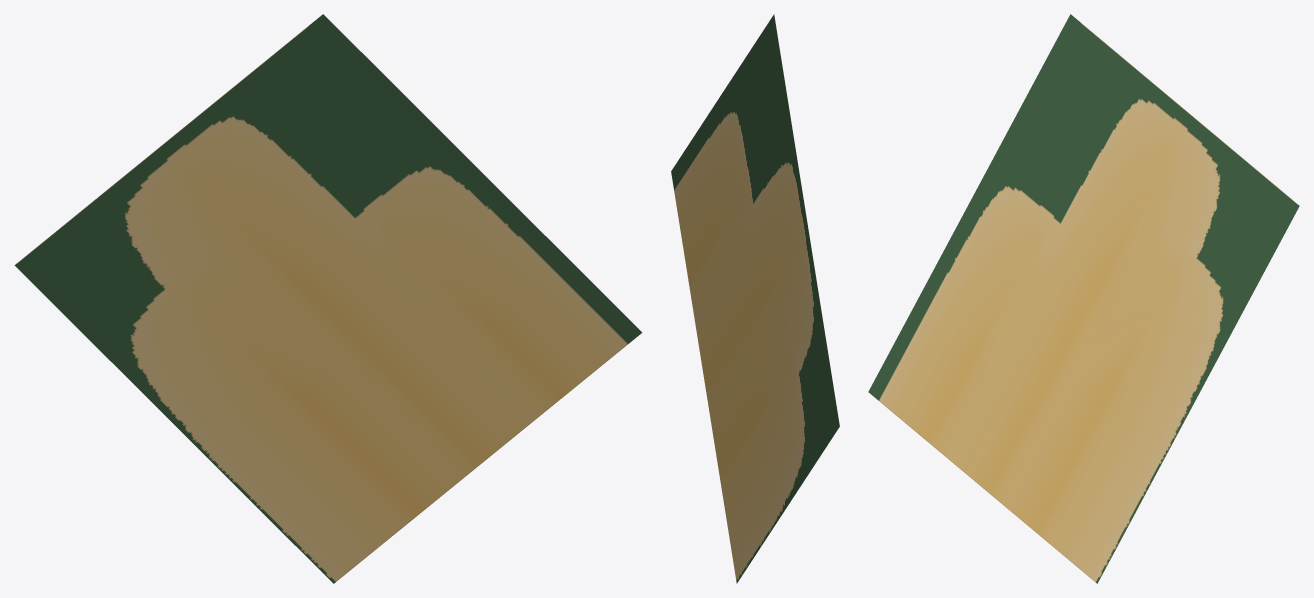
3 views of the same model, side by side, from view 1: azimuth 30°, elevation 25°; view 2: azimuth 150°, elevation 25°; view 3: azimuth 270°, elevation 25° (orthographic). The views are drawn at different scales.
Parts seen in each view (by area): view 1: dynamiclight.png__; view 2: dynamiclight.png__; view 3: dynamiclight.png__.
Boxes of the visible parts, <box> form: dynamiclight.png__: <box>14,14,642,583</box>; dynamiclight.png__: <box>671,14,839,583</box>; dynamiclight.png__: <box>868,14,1299,583</box>.
Bounding box in the file's own units: 18.86 × 26.32 × 18.43.
1 material, 1 textured.
